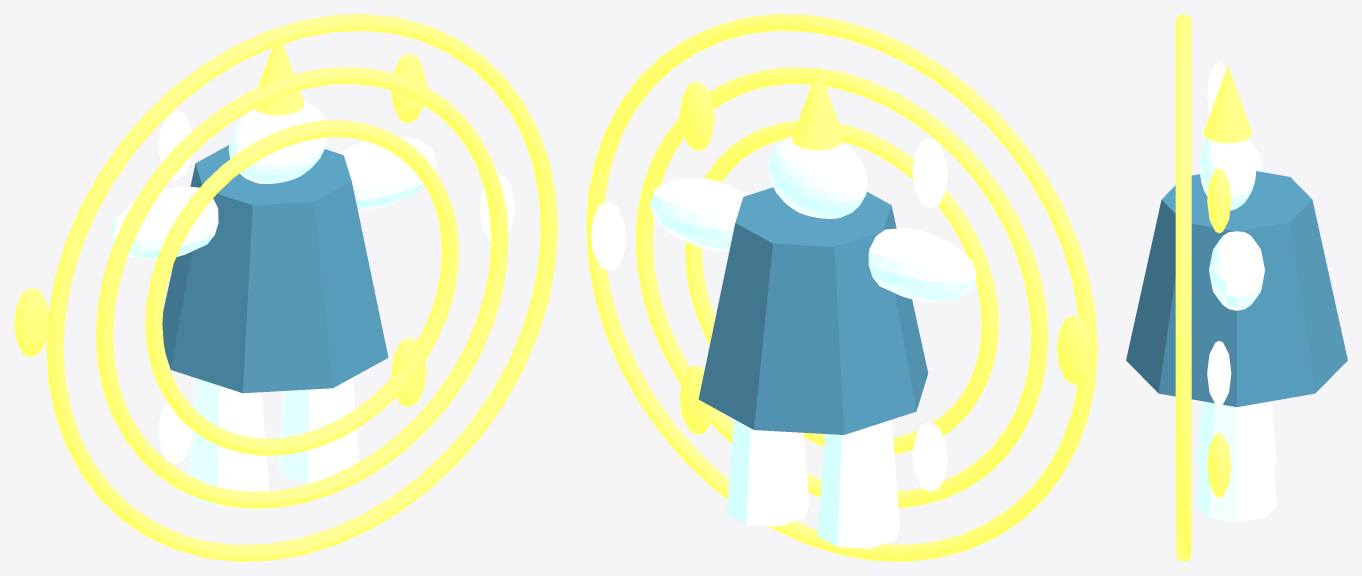
Rendered from effect-second-wind.glb.
3 renders of one model, left to right at view 1: azimuth 30°, elevation 25°; view 2: azimuth 150°, elevation 25°; view 3: azimuth 270°, elevation 25°, orthographic. The views are drawn at different scales.
Visible parts, largest first — view 1: SecondWind_WarriorLamellar, SecondWind_RebirthRing_3, SecondWind_RebirthRing_2, SecondWind_RebirthRing_1, SecondWind_WarriorLeg_1, SecondWind_WarriorLeg_2, SecondWind_WarriorHelmet, SecondWind_ShoulderGuard_2, SecondWind_ShoulderGuard_1, SecondWind_Soul_4, SecondWind_HelmetCrest, SecondWind_Soul_5 (+4 smaller); view 2: SecondWind_WarriorLamellar, SecondWind_RebirthRing_3, SecondWind_RebirthRing_2, SecondWind_RebirthRing_1, SecondWind_WarriorLeg_1, SecondWind_WarriorLeg_2, SecondWind_ShoulderGuard_1, SecondWind_WarriorHelmet, SecondWind_ShoulderGuard_2, SecondWind_HelmetCrest, SecondWind_Soul_2, SecondWind_Soul_4 (+4 smaller); view 3: SecondWind_WarriorLamellar, SecondWind_RebirthRing_3, SecondWind_WarriorLeg_2, SecondWind_ShoulderGuard_2, SecondWind_WarriorHelmet, SecondWind_HelmetCrest, SecondWind_Soul_2, SecondWind_Soul_6, SecondWind_Soul_1, SecondWind_Soul_3, SecondWind_WarriorLeg_1.
Part boxes in pixels (x1=…): SecondWind_WarriorLamellar: x1=162, y1=145, x2=388, y2=393; SecondWind_RebirthRing_3: x1=46, y1=14, x2=557, y2=561; SecondWind_RebirthRing_2: x1=96, y1=67, x2=508, y2=508; SecondWind_RebirthRing_1: x1=145, y1=120, x2=458, y2=455; SecondWind_WarriorLeg_1: x1=187, y1=378, x2=269, y2=506; SecondWind_WarriorLeg_2: x1=277, y1=377, x2=359, y2=484; SecondWind_WarriorHelmet: x1=228, y1=100, x2=327, y2=183; SecondWind_ShoulderGuard_2: x1=338, y1=136, x2=436, y2=209; SecondWind_ShoulderGuard_1: x1=110, y1=186, x2=218, y2=259; SecondWind_Soul_4: x1=14, y1=287, x2=48, y2=357; SecondWind_HelmetCrest: x1=254, y1=44, x2=304, y2=115; SecondWind_Soul_5: x1=158, y1=397, x2=193, y2=463; SecondWind_WarriorLamellar: x1=698, y1=187, x2=928, y2=434; SecondWind_RebirthRing_3: x1=586, y1=14, x2=1097, y2=561; SecondWind_RebirthRing_2: x1=635, y1=67, x2=1048, y2=507; SecondWind_RebirthRing_1: x1=685, y1=121, x2=998, y2=453; SecondWind_WarriorLeg_1: x1=817, y1=420, x2=899, y2=548; SecondWind_WarriorLeg_2: x1=726, y1=419, x2=809, y2=526; SecondWind_ShoulderGuard_1: x1=868, y1=228, x2=976, y2=301; SecondWind_WarriorHelmet: x1=768, y1=135, x2=867, y2=218; SecondWind_ShoulderGuard_2: x1=650, y1=178, x2=748, y2=251; SecondWind_HelmetCrest: x1=792, y1=66, x2=844, y2=150; SecondWind_Soul_2: x1=679, y1=81, x2=714, y2=151; SecondWind_Soul_4: x1=1056, y1=315, x2=1091, y2=385; SecondWind_WarriorLamellar: x1=1126, y1=171, x2=1347, y2=407; SecondWind_RebirthRing_3: x1=1175, y1=14, x2=1191, y2=561; SecondWind_WarriorLeg_2: x1=1197, y1=401, x2=1276, y2=522; SecondWind_ShoulderGuard_2: x1=1209, y1=231, x2=1264, y2=310; SecondWind_WarriorHelmet: x1=1199, y1=138, x2=1256, y2=210; SecondWind_HelmetCrest: x1=1204, y1=65, x2=1252, y2=143; SecondWind_Soul_2: x1=1207, y1=168, x2=1231, y2=233; SecondWind_Soul_6: x1=1207, y1=433, x2=1231, y2=497; SecondWind_Soul_1: x1=1207, y1=341, x2=1231, y2=405; SecondWind_Soul_3: x1=1207, y1=62, x2=1225, y2=114; SecondWind_WarriorLeg_1: x1=1197, y1=401, x2=1276, y2=466.
Size of the model in its own units: 1.27 by 1.24 by 0.5.
